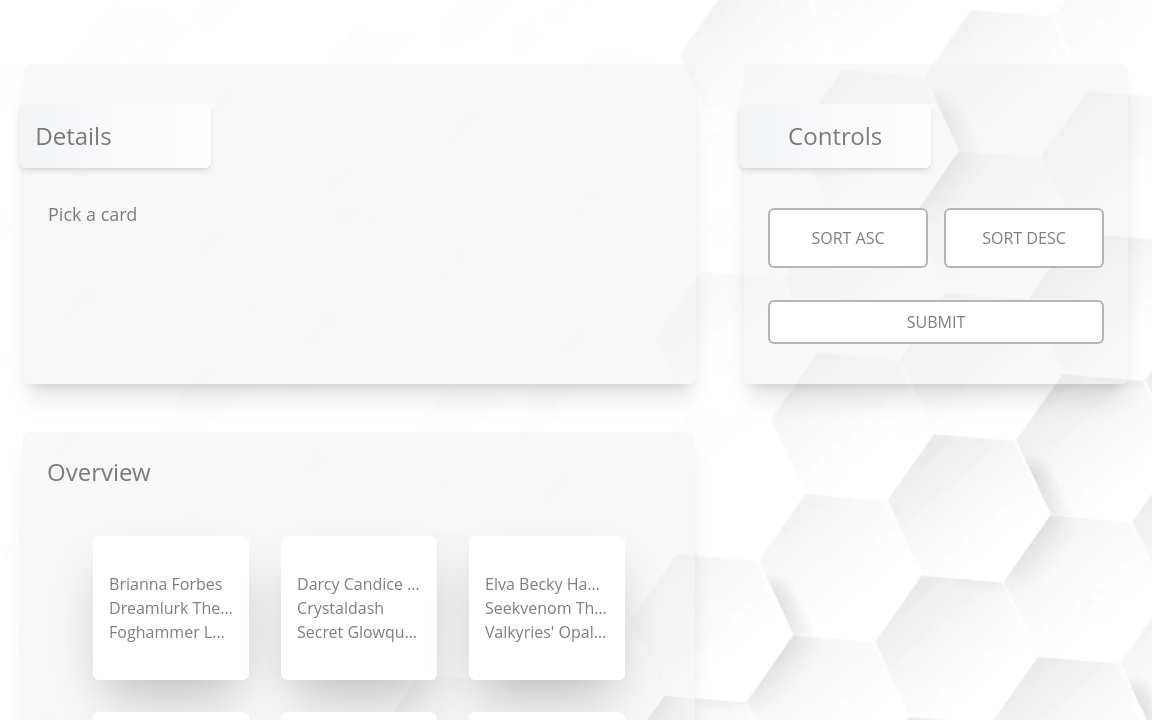
Test: Check Location › Clcik Overview
The image size is (1152, 720).
Click the element showing "Brianna Forbes Dreamlurk The Unstoppable Foghammer Lead".
click(171, 608)  # box [93, 536, 249, 680]
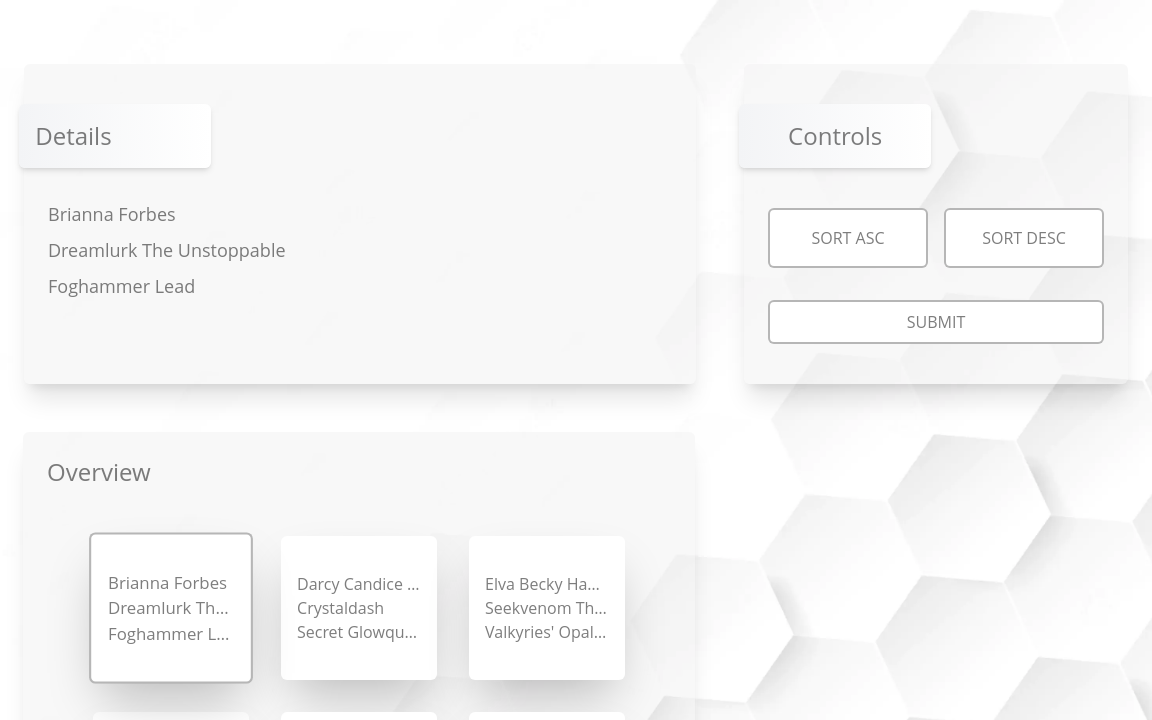
Now the text "Brianna Forbes" below "Details" is shown, box [48, 202, 176, 226]
